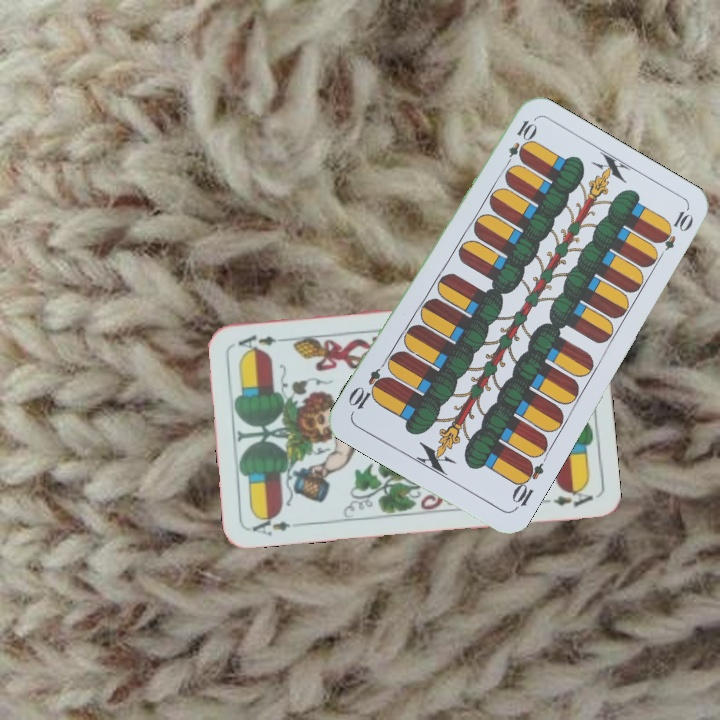E10: (507, 456, 546, 513), (500, 116, 538, 172)
EA: (248, 510, 306, 538)
